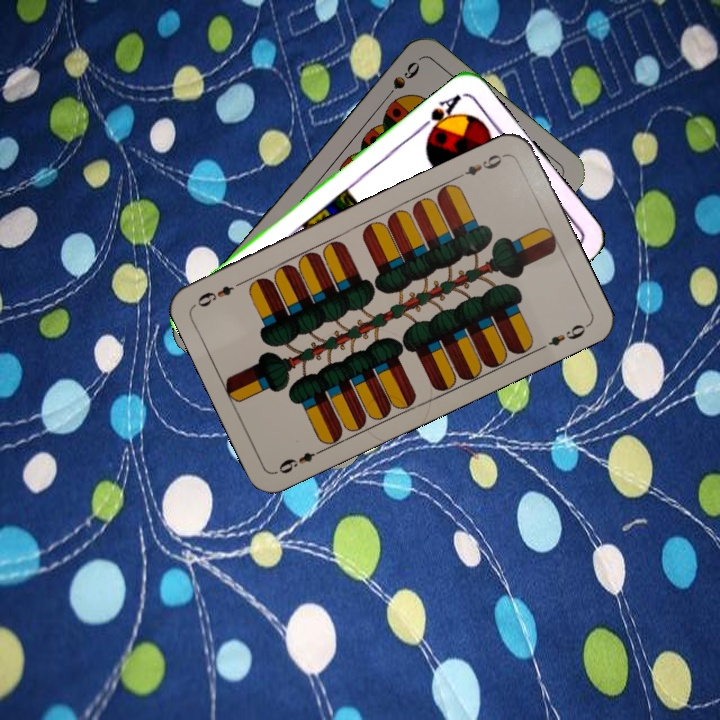E9: (454, 149, 510, 181), (274, 444, 328, 477)
S9: (378, 57, 423, 106)
SA: (415, 90, 465, 141)
